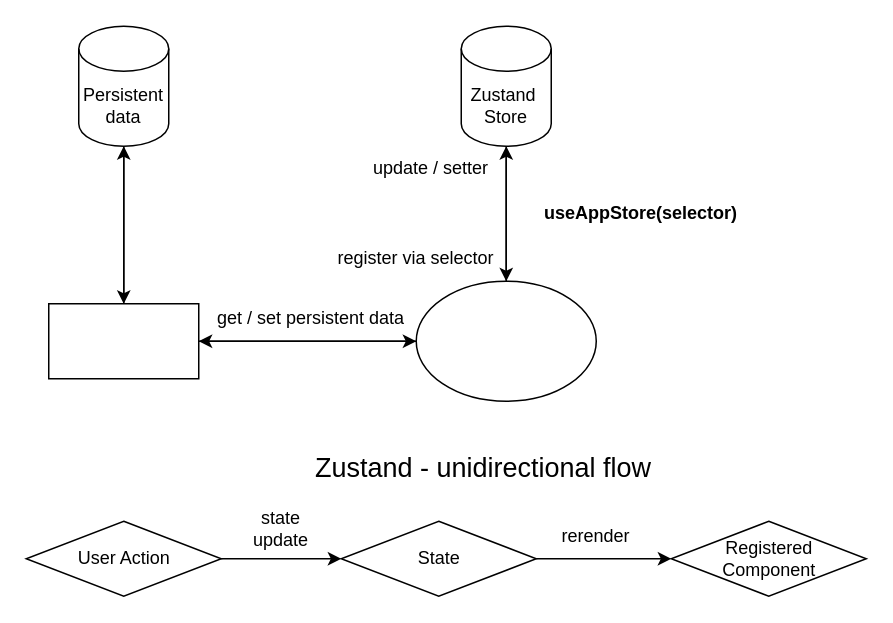
This 893x623 diagram has some shape labels left out. The shapes that lost their labels are listed below. From the top down, each one's centre as x and y in pixels, then its label:
(x=123, y=340): data loader
(x=505, y=340): Component
